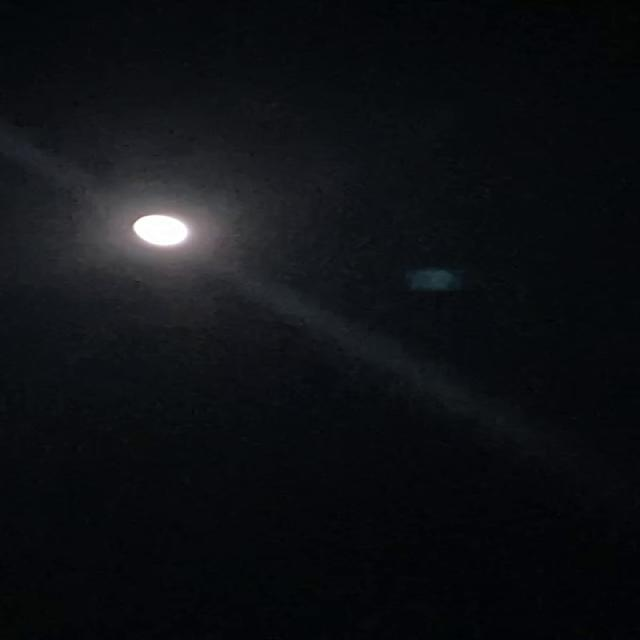moon: (120, 209, 198, 252)
